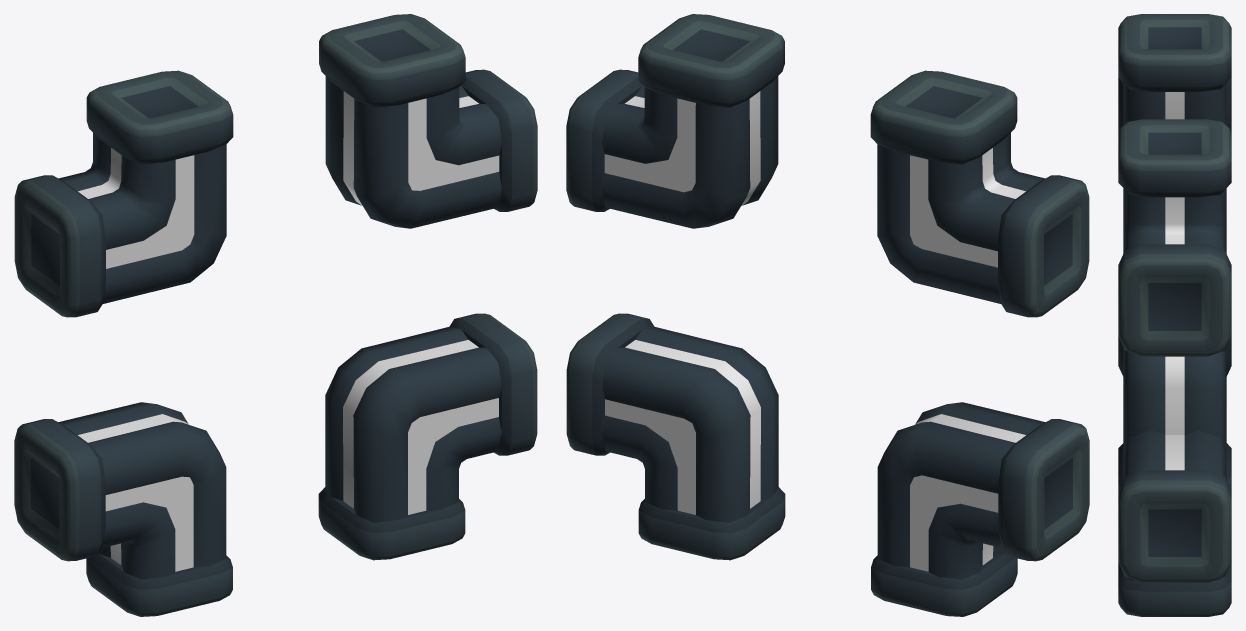
Rendered from Track_Vertical_Brass_X.fbx.
3 views of the same model, side by side, from view 1: azimuth 30°, elevation 25°; view 2: azimuth 150°, elevation 25°; view 3: azimuth 270°, elevation 25° (orthographic). The views are drawn at different scales.
Visible parts, largest first — view 1: Track_Vertical_Brass_X_LOD0; view 2: Track_Vertical_Brass_X_LOD0; view 3: Track_Vertical_Brass_X_LOD0.
Boxes of the visible parts, x1=… form: Track_Vertical_Brass_X_LOD0: x1=14, y1=14, x2=537, y2=616; Track_Vertical_Brass_X_LOD0: x1=566, y1=14, x2=1089, y2=616; Track_Vertical_Brass_X_LOD0: x1=1118, y1=14, x2=1231, y2=616.
Size of what is drawn, in the model's own units: 1.01 by 1.01 by 0.2263.
